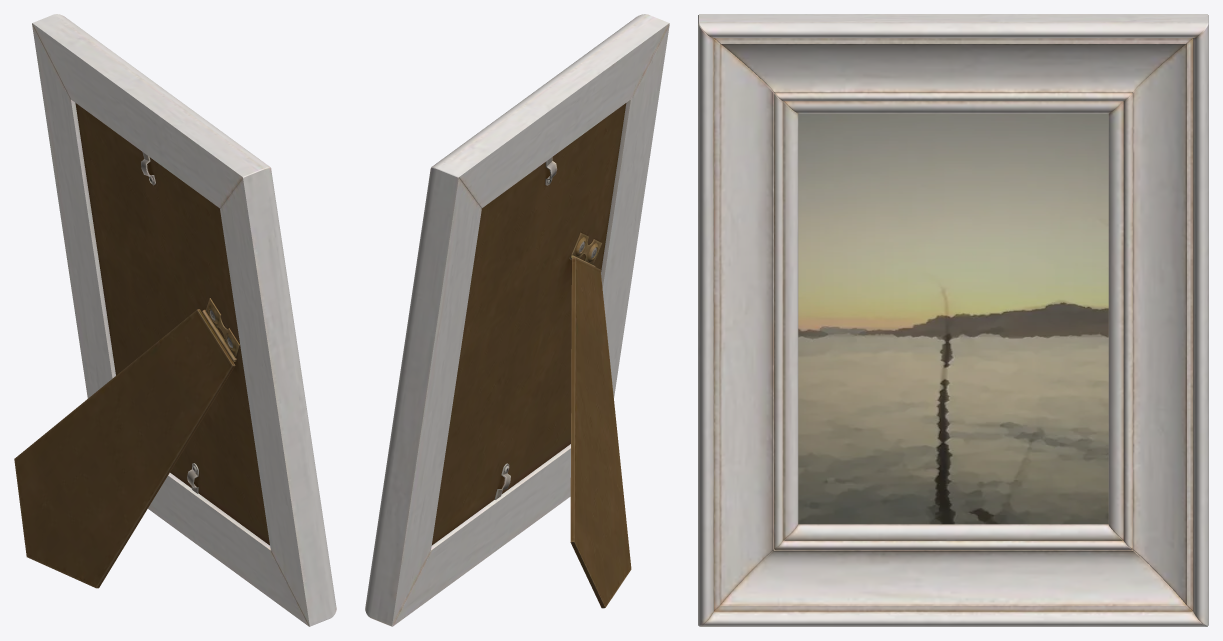
The model's file is photo.glb.
3 renders of one model, left to right at view 1: azimuth 30°, elevation 25°; view 2: azimuth 150°, elevation 25°; view 3: azimuth 270°, elevation 25°, orthographic. The views are drawn at different scales.
Parts seen in each view (by area): view 1: standing_picture_frame_02; view 2: standing_picture_frame_02; view 3: standing_picture_frame_02.
Boxes of the visible parts, x1=… form: standing_picture_frame_02: x1=14, y1=14, x2=336, y2=626; standing_picture_frame_02: x1=365, y1=14, x2=669, y2=626; standing_picture_frame_02: x1=698, y1=14, x2=1208, y2=626.
Bounding box in the file's own units: 0.1023 × 0.2664 × 0.2169.
2 materials, 2 textured.
